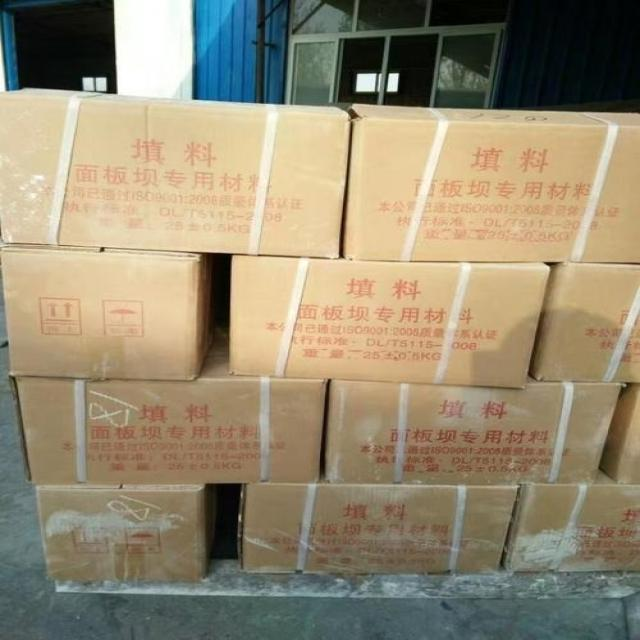box: (1, 86, 351, 258), (340, 103, 639, 263), (5, 337, 328, 484), (229, 254, 550, 389), (321, 373, 626, 484), (1, 244, 215, 380), (237, 483, 520, 573), (37, 483, 216, 582), (503, 467, 639, 572), (529, 262, 640, 383), (600, 383, 639, 484)
